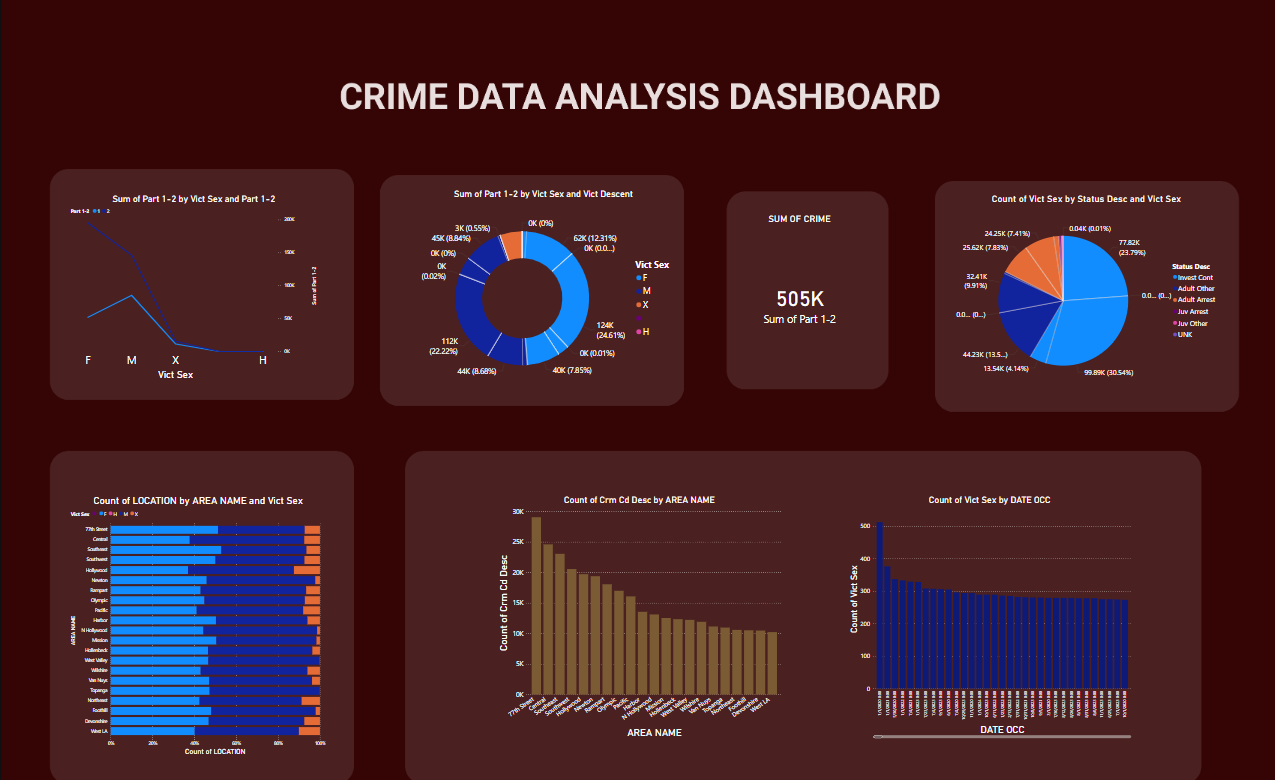

Layout of this report page (visuals, bound fields, positions):
{"tool":"powerbi","page":{"name":"Page 1","canvas":[3413,2275],"ordinal":0},"visuals":[{"type":"columnChart","fields":{"Category":["Crime_Data_from_2020_to_Present.AREA NAME"],"Y":["CountNonNull(Crime_Data_from_2020_to_Present.Crm Cd Desc)"]},"box":[1320,1325,770,655],"z":0},{"type":"card","title":"           SUM OF CRIME","fields":{"Values":["Sum(Crime_Data_from_2020_to_Present.Part 1-2)"]},"box":[1920,575,425,450],"z":1000},{"type":"lineChart","fields":{"Y2":["Sum(Crime_Data_from_2020_to_Present.Part 1-2)"],"Category":["Crime_Data_from_2020_to_Present.Vict Sex"],"Series":["Crime_Data_from_2020_to_Present.Part 1-2"]},"box":[183.3,523.3,666.7,503.3],"z":2000},{"type":"pieChart","fields":{"Category":["Crime_Data_from_2020_to_Present.Status Desc"],"Y":["CountNonNull(Crime_Data_from_2020_to_Present.Vict Sex)"],"Series":["Crime_Data_from_2020_to_Present.Vict Sex"]},"box":[2540,524.3,714.3,545.7],"z":3000},{"type":"donutChart","fields":{"Category":["Crime_Data_from_2020_to_Present.Vict Sex"],"Series":["Crime_Data_from_2020_to_Present.Vict Descent"],"Y":["Sum(Crime_Data_from_2020_to_Present.Part 1-2)"]},"box":[1085,510,725,560],"z":4000},{"type":"lineClusteredColumnComboChart","fields":{"Category":["Crime_Data_from_2020_to_Present.DATE OCC"],"Y":["CountNonNull(Crime_Data_from_2020_to_Present.Vict Sex)"]},"box":[2255,1325,765,655],"z":5000},{"type":"hundredPercentStackedBarChart","fields":{"Category":["Crime_Data_from_2020_to_Present.AREA NAME"],"Y":["CountNonNull(Crime_Data_from_2020_to_Present.LOCATION)"],"Series":["Crime_Data_from_2020_to_Present.Vict Sex"]},"box":[183.3,1326.7,690,700],"z":5001}]}

Visuals, with their boxes on the page's 3413x2275 design canvas (x1, y1, x2, y2). These are canvas units, not pixel positions in the 1275x780 screenshot, which may show the page scaled, cropped or inside an application window:
columnChart - Crime_Data_from_2020_to_Present.AREA NAME x CountNonNull(Crime_Data_from_2020_to_Present.Crm Cd Desc): bbox=[1320, 1325, 2090, 1980]
"           SUM OF CRIME" card: bbox=[1920, 575, 2345, 1025]
lineChart - Sum(Crime_Data_from_2020_to_Present.Part 1-2) x Crime_Data_from_2020_to_Present.Vict Sex: bbox=[183, 523, 850, 1027]
pieChart - Crime_Data_from_2020_to_Present.Status Desc x CountNonNull(Crime_Data_from_2020_to_Present.Vict Sex): bbox=[2540, 524, 3254, 1070]
donutChart - Crime_Data_from_2020_to_Present.Vict Sex x Crime_Data_from_2020_to_Present.Vict Descent: bbox=[1085, 510, 1810, 1070]
lineClusteredColumnComboChart - Crime_Data_from_2020_to_Present.DATE OCC x CountNonNull(Crime_Data_from_2020_to_Present.Vict Sex): bbox=[2255, 1325, 3020, 1980]
hundredPercentStackedBarChart - Crime_Data_from_2020_to_Present.AREA NAME x CountNonNull(Crime_Data_from_2020_to_Present.LOCATION): bbox=[183, 1327, 873, 2027]
